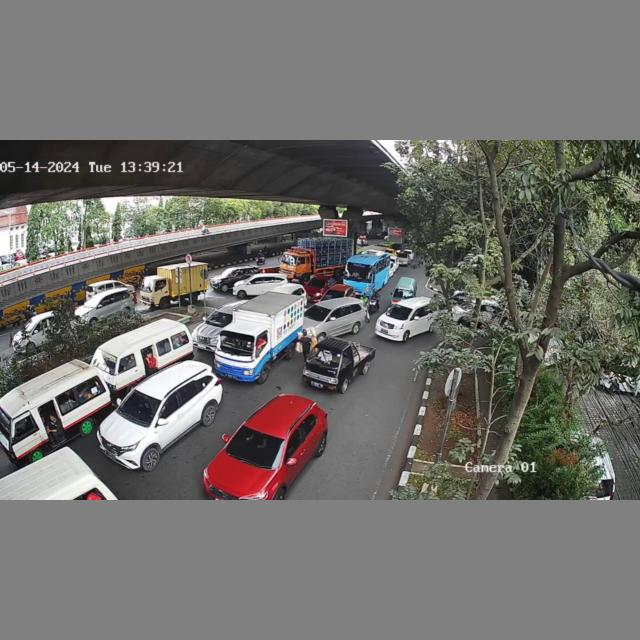windshield: (225, 422, 286, 469), (117, 389, 165, 428), (219, 329, 268, 358), (88, 348, 121, 376), (307, 347, 341, 370), (304, 304, 331, 321), (387, 303, 413, 319), (207, 312, 233, 325)
